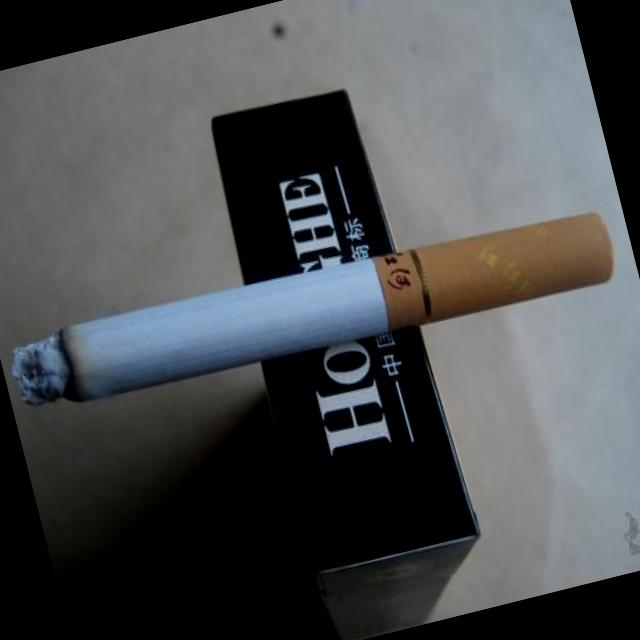smoke: (0, 167, 633, 452)
